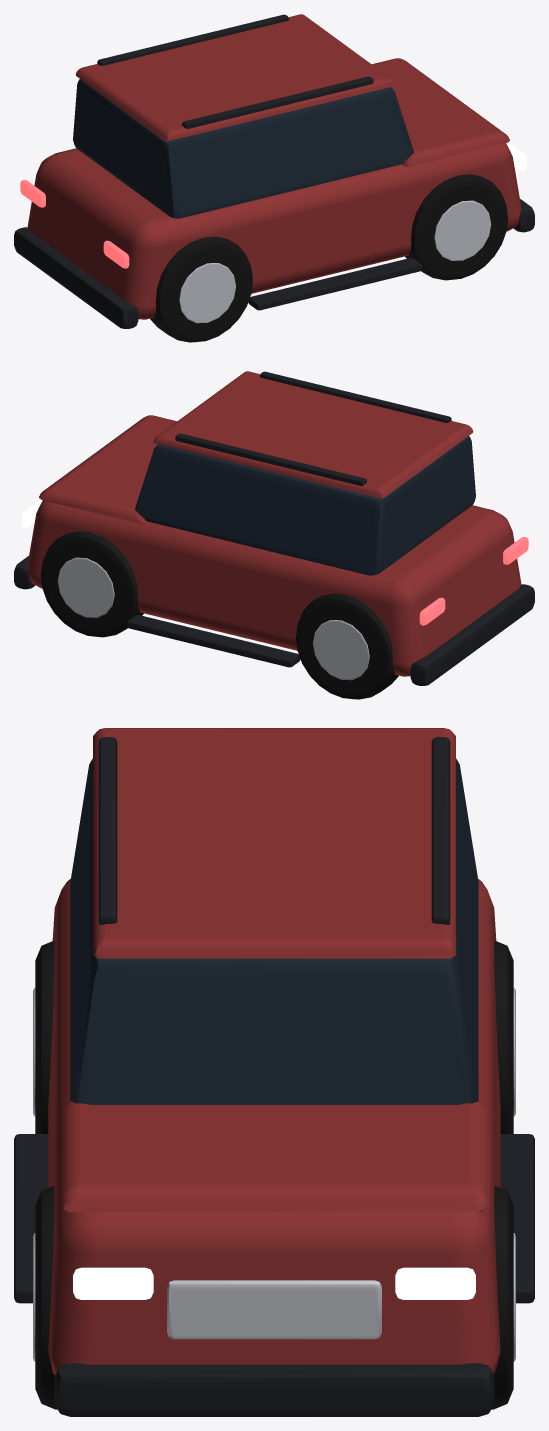
Rendered from suv.glb.
3 views of the same model, one above another, from view 1: azimuth 30°, elevation 25°; view 2: azimuth 150°, elevation 25°; view 3: azimuth 270°, elevation 25° (orthographic). The views are drawn at different scales.
Parts seen in each view (by area): view 1: body, cabin, roof, hood, wheel--11--1-tyre, wheel-+11--1-tyre, bumper-rear, step--1, wheel-+11--1-hub, wheel--11--1-hub, roof-rail--1, roof-rail-1 (+3 smaller); view 2: body, cabin, roof, hood, wheel--11-1-tyre, wheel-+11-1-tyre, bumper-rear, step-1, wheel-+11-1-hub, wheel--11-1-hub, roof-rail-1, roof-rail--1 (+3 smaller); view 3: roof, cabin, body, hood, bumper-front, grille, step-1, step--1, wheel-+11-1-tyre, wheel-+11--1-tyre, roof-rail-1, roof-rail--1 (+4 smaller).
Boxes of the visible parts, left/top/right/bottom form: body: left=27, top=143, right=521, bottom=319; cabin: left=73, top=79, right=413, bottom=218; roof: left=75, top=14, right=394, bottom=141; hood: left=372, top=58, right=509, bottom=166; wheel--11--1-tyre: left=150, top=236, right=252, bottom=342; wheel-+11--1-tyre: left=405, top=174, right=507, bottom=280; bumper-rear: left=14, top=227, right=138, bottom=328; step--1: left=248, top=258, right=422, bottom=310; wheel-+11--1-hub: left=434, top=200, right=491, bottom=260; wheel--11--1-hub: left=179, top=263, right=235, bottom=323; roof-rail--1: left=182, top=76, right=373, bottom=128; roof-rail-1: left=97, top=14, right=288, bottom=65; body: left=27, top=500, right=521, bottom=676; cabin: left=135, top=436, right=475, bottom=575; roof: left=154, top=371, right=473, bottom=498; hood: left=39, top=415, right=176, bottom=523; wheel--11-1-tyre: left=296, top=593, right=398, bottom=699; wheel-+11-1-tyre: left=41, top=531, right=143, bottom=637; bumper-rear: left=410, top=584, right=534, bottom=685; step-1: left=126, top=615, right=300, bottom=667; wheel-+11-1-hub: left=57, top=557, right=114, bottom=617; wheel--11-1-hub: left=313, top=620, right=369, bottom=680; roof-rail-1: left=175, top=433, right=366, bottom=485; roof-rail--1: left=260, top=371, right=451, bottom=422; roof: left=93, top=728, right=455, bottom=958; cabin: left=70, top=758, right=478, bottom=1104; body: left=48, top=879, right=500, bottom=1374; hood: left=60, top=1101, right=488, bottom=1212; bumper-front: left=54, top=1363, right=494, bottom=1416; grille: left=167, top=1280, right=381, bottom=1339; step-1: left=500, top=1134, right=534, bottom=1303; step--1: left=14, top=1134, right=48, bottom=1303; wheel-+11-1-tyre: left=491, top=1186, right=513, bottom=1409; wheel-+11--1-tyre: left=35, top=1186, right=57, bottom=1409; roof-rail-1: left=431, top=737, right=450, bottom=924; roof-rail--1: left=98, top=737, right=117, bottom=924.
Size of the model in its own units: 35.2 by 17 by 19.4.
